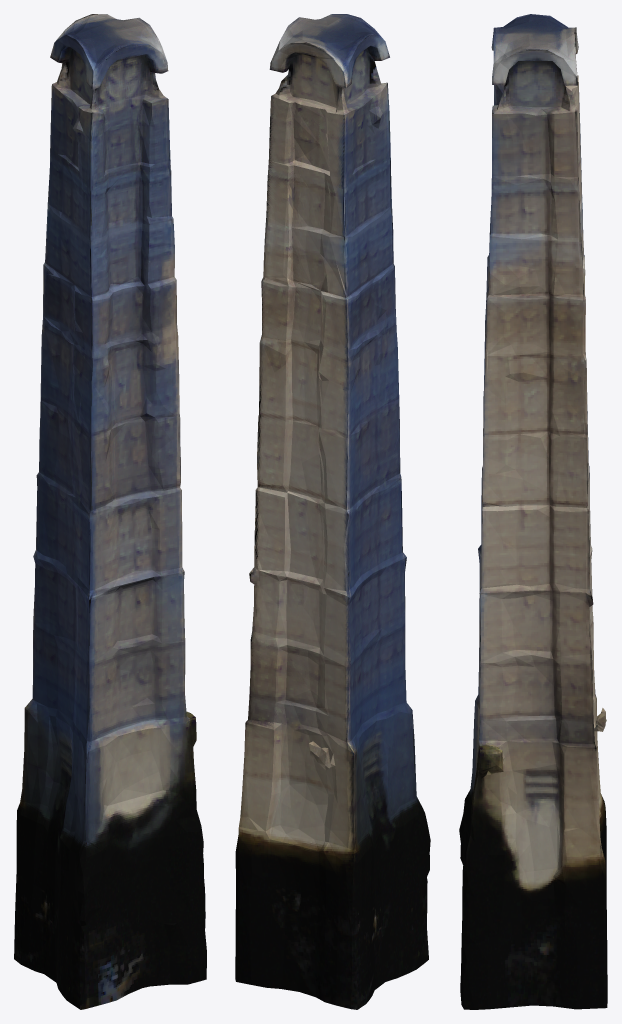
File: trellis.glb
3 renders of one model, left to right at view 1: azimuth 30°, elevation 25°; view 2: azimuth 150°, elevation 25°; view 3: azimuth 270°, elevation 25°, orthographic.
Parts seen in each view (by area): view 1: world; view 2: world; view 3: world.
Boxes of the visible parts, x1,y1,x2,y2 form: world: (14, 14, 206, 1009); world: (235, 14, 430, 1009); world: (459, 14, 607, 1009).
Size of the model in its own units: 0.1424 by 0.9863 by 0.1401.
1 material, 1 textured.
